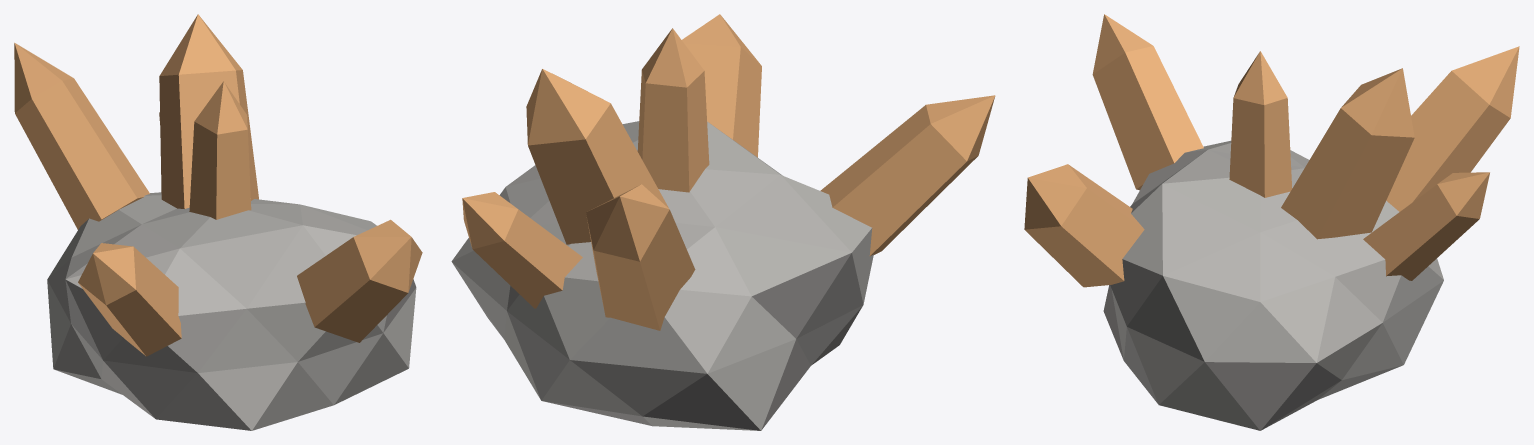
File: Ore_Node_A.fbx
3 views of the same model, side by side, from view 1: azimuth 30°, elevation 25°; view 2: azimuth 150°, elevation 25°; view 3: azimuth 270°, elevation 25° (orthographic). The views are drawn at different scales.
Visible parts, largest first — view 1: Ore_Node_A; view 2: Ore_Node_A; view 3: Ore_Node_A.
Boxes of the visible parts, bbox=[...] form: Ore_Node_A: bbox=[14, 14, 422, 430]; Ore_Node_A: bbox=[451, 14, 995, 430]; Ore_Node_A: bbox=[1024, 14, 1519, 430].
Bounding box in the file's own units: 2.88 × 2.29 × 3.25.
